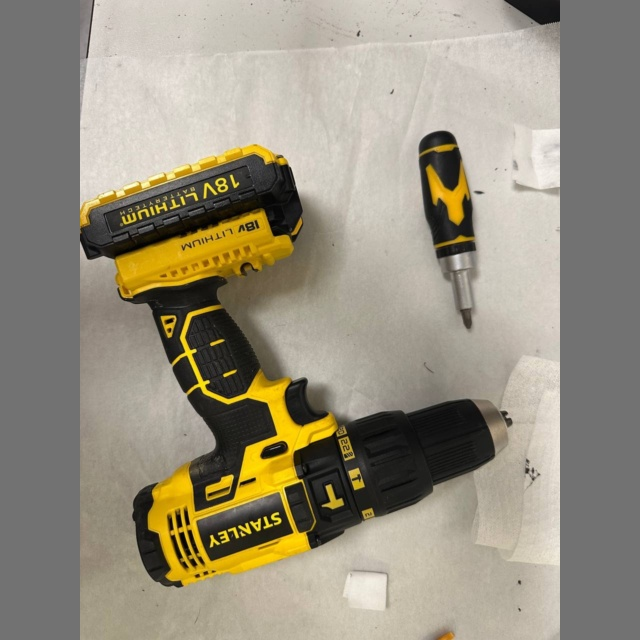drill: (80, 145, 508, 586)
screwdriver: (419, 131, 476, 329)
